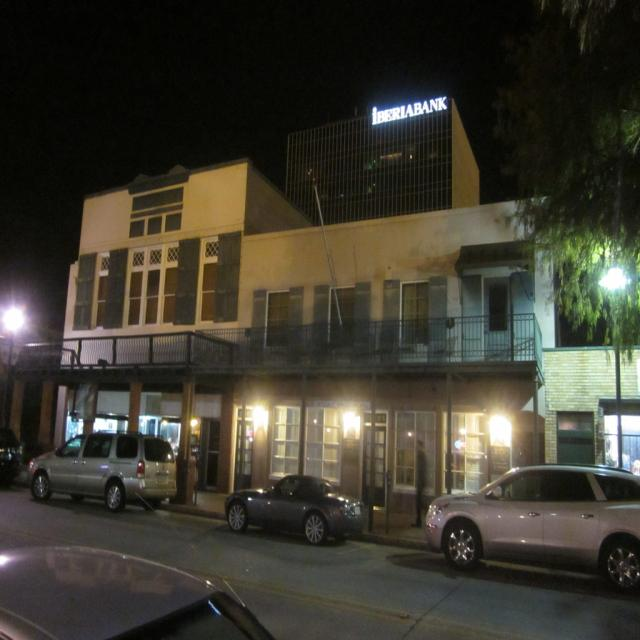car: (426, 468, 636, 594), (30, 432, 176, 515), (220, 470, 366, 548)
